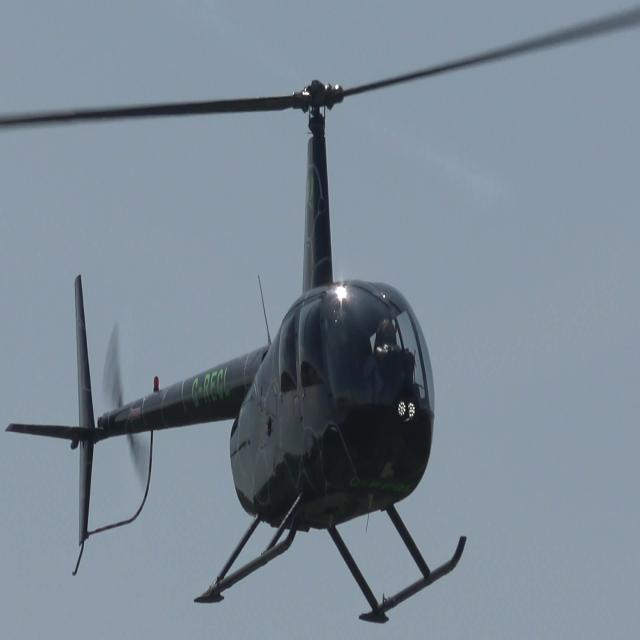CIV_HELO: (2, 78, 468, 624)
